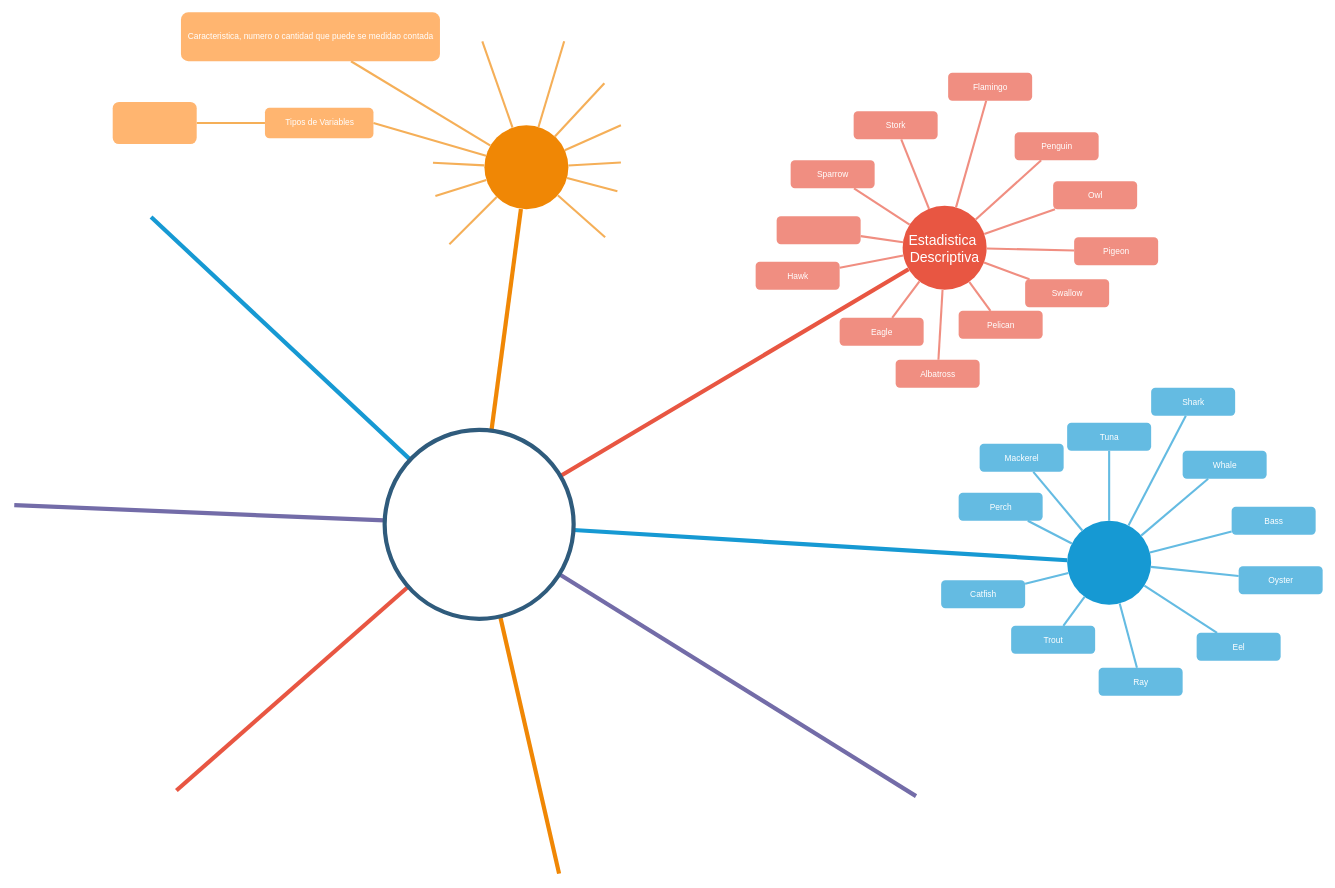
Image size: 1335x888. Some labels were removed from this diagram. Here are the shapes that lost their labels. From the top down, the box of each, then its label:
(112, 102, 196, 144): Numericas
(484, 125, 568, 209): Ingenieria de Variables
(776, 216, 860, 244): Falcon
(382, 427, 575, 621): Estadistica
(1067, 520, 1151, 604): Fish
